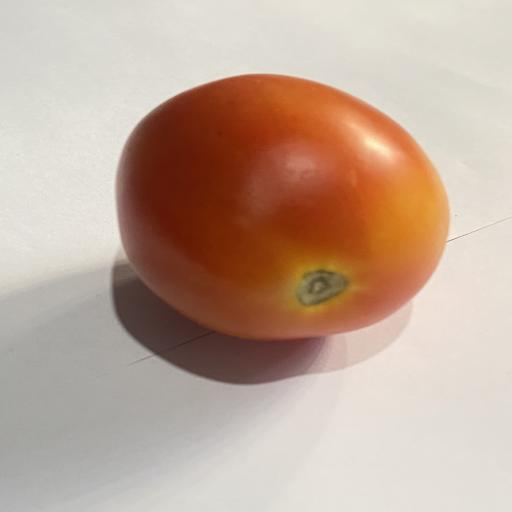ripe: (116, 74, 449, 340)
